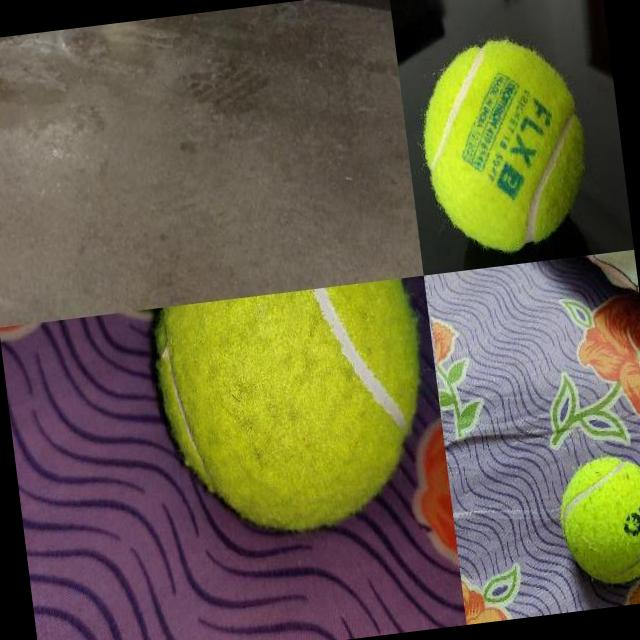Tennis Ball: (148, 276, 440, 546), (409, 28, 596, 260), (553, 448, 640, 592)
